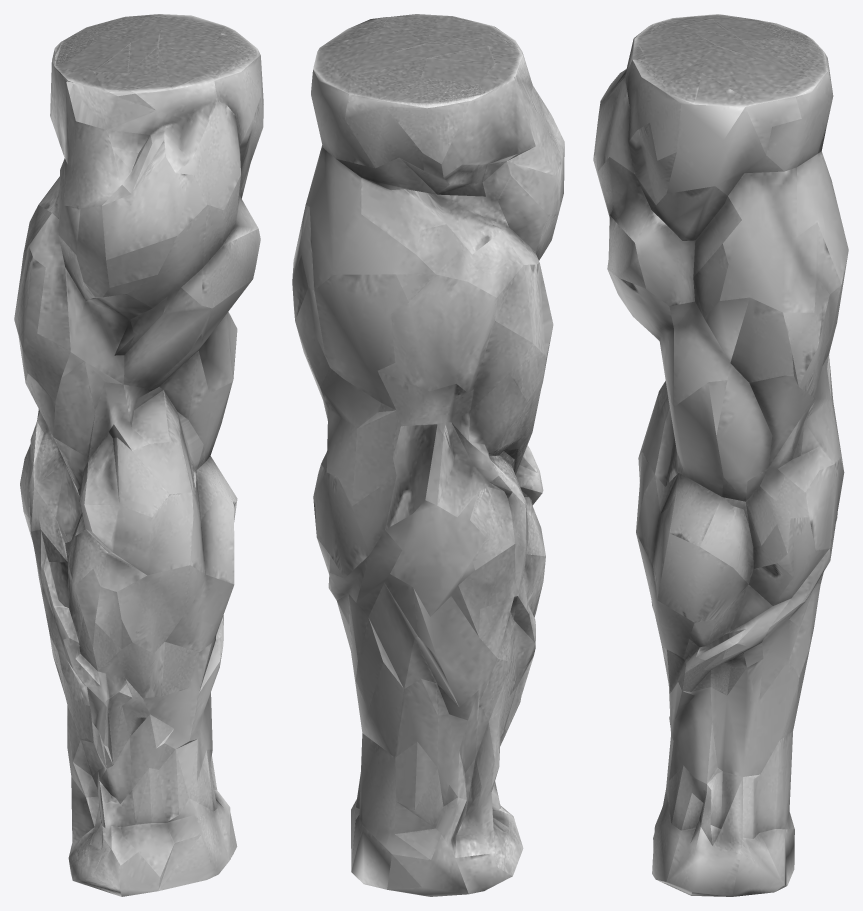
Rendered from arm_bare.glb.
3 views of the same model, side by side, from view 1: azimuth 30°, elevation 25°; view 2: azimuth 150°, elevation 25°; view 3: azimuth 270°, elevation 25° (orthographic).
Bounding box in the file's own units: 0.2882 × 1 × 0.2795.
1 material, 1 textured.
